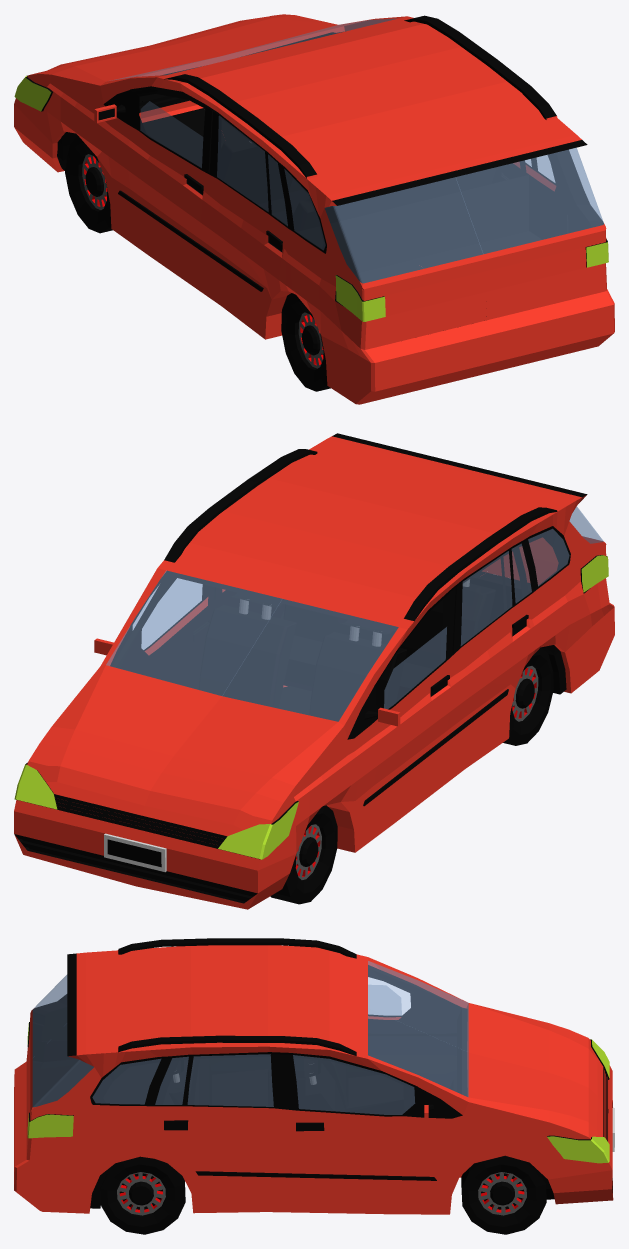
The model's file is suran (1).glb.
3 views of the same model, one above another, from view 1: azimuth 30°, elevation 25°; view 2: azimuth 150°, elevation 25°; view 3: azimuth 270°, elevation 25° (orthographic). The views are drawn at different scales.
Parts seen in each view (by area): view 1: interior, bau, asiento trasero, asiento adelante, RUEDAS.002, RUEDAS.003; view 2: interior, asiento adelante, asiento trasero, RUEDAS.003, RUEDAS.002, bau; view 3: interior, RUEDAS.004, RUEDAS.001, bau, asiento adelante, asiento trasero.
Part boxes in pixels (<box>): interior: <box>14,14,614,404</box>; bau: <box>325,147,608,349</box>; asiento trasero: <box>283,167,496,231</box>; asiento adelante: <box>197,137,292,213</box>; RUEDAS.002: <box>281,293,330,391</box>; RUEDAS.003: <box>65,136,112,233</box>; interior: <box>14,433,614,909</box>; asiento adelante: <box>198,590,406,721</box>; asiento trasero: <box>283,572,495,699</box>; RUEDAS.003: <box>270,805,337,904</box>; RUEDAS.002: <box>503,648,553,745</box>; bau: <box>482,506,607,584</box>; interior: <box>14,938,614,1214</box>; RUEDAS.004: <box>461,1156,546,1234</box>; RUEDAS.001: <box>100,1156,185,1234</box>; bau: <box>26,974,93,1160</box>; asiento adelante: <box>304,1058,404,1114</box>; asiento trasero: <box>168,1058,269,1106</box>.
Bounding box in the file's own units: 4.97 × 3.73 × 10.22.
